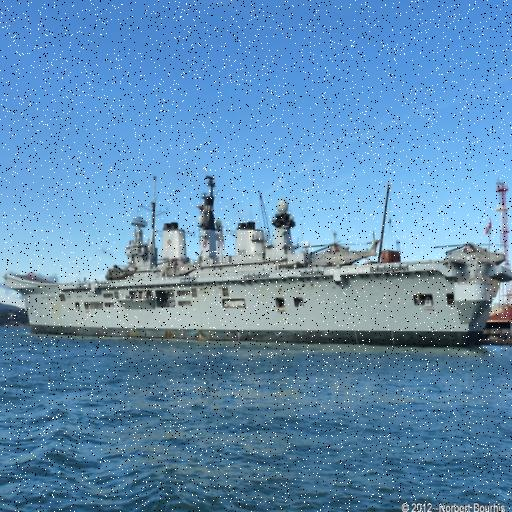Portanaves: (9, 173, 512, 358)
